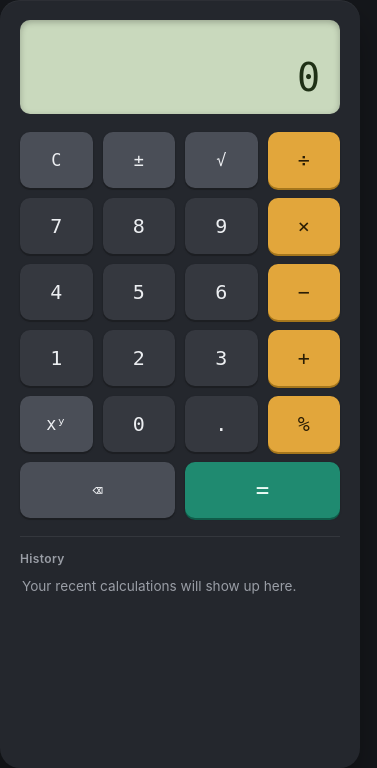
Calculator (integration) › resets the calculator when Clear is pressed
Click the button "9" at (221, 226), box [185, 198, 258, 254]
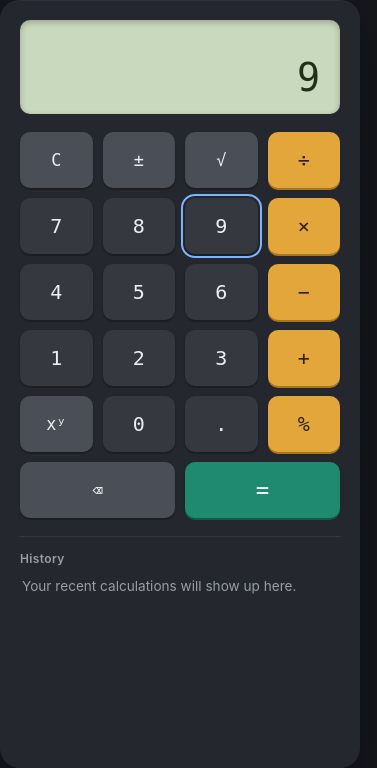
Now the message reads "9", box [297, 55, 320, 100]
Click the button named "Clear" at (56, 160), box [20, 132, 92, 188]
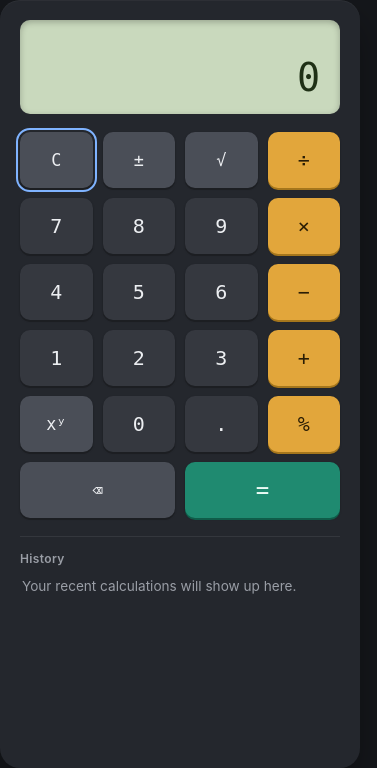
Now the message reads "0", box [297, 55, 320, 100]
